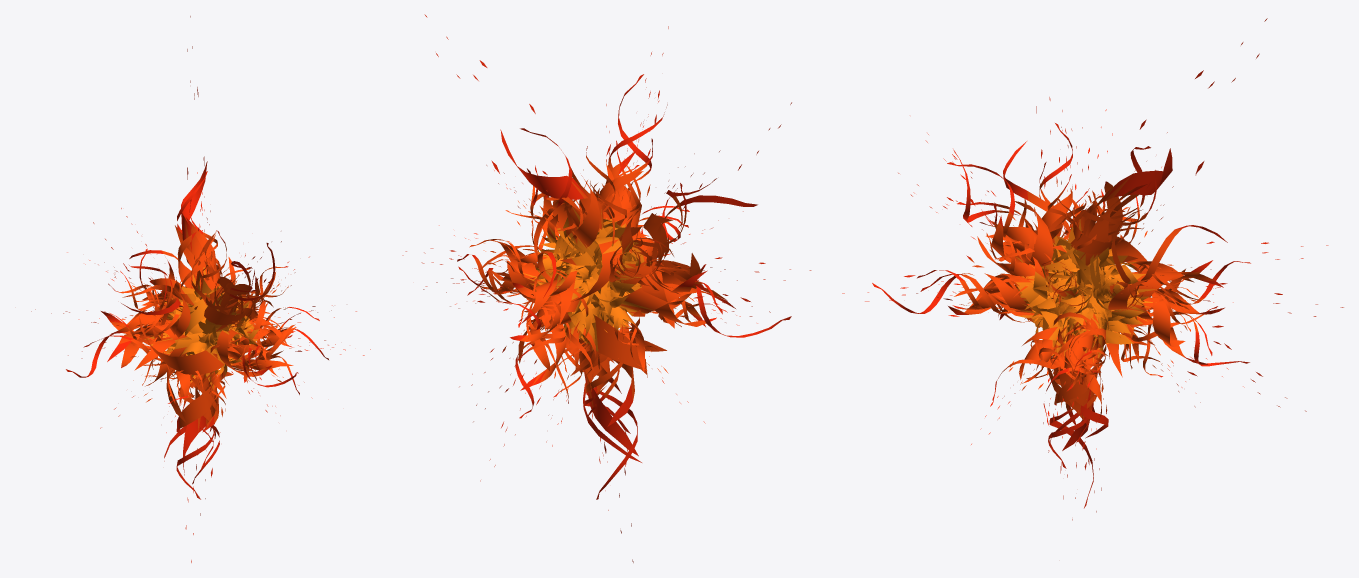
File: fireball_03.obj
3 renders of one model, left to right at view 1: azimuth 30°, elevation 25°; view 2: azimuth 150°, elevation 25°; view 3: azimuth 270°, elevation 25°, orthographic. The views are drawn at different scales.
Visible parts, largest first — view 1: Fireball; view 2: Fireball; view 3: Fireball.
Part boxes in pixels (<box>): Fireball: <box>31,16,370,562</box>; Fireball: <box>402,14,811,562</box>; Fireball: <box>842,18,1343,520</box>.
Bounding box in the file's own units: 1.71 × 2.3 × 1.76.
